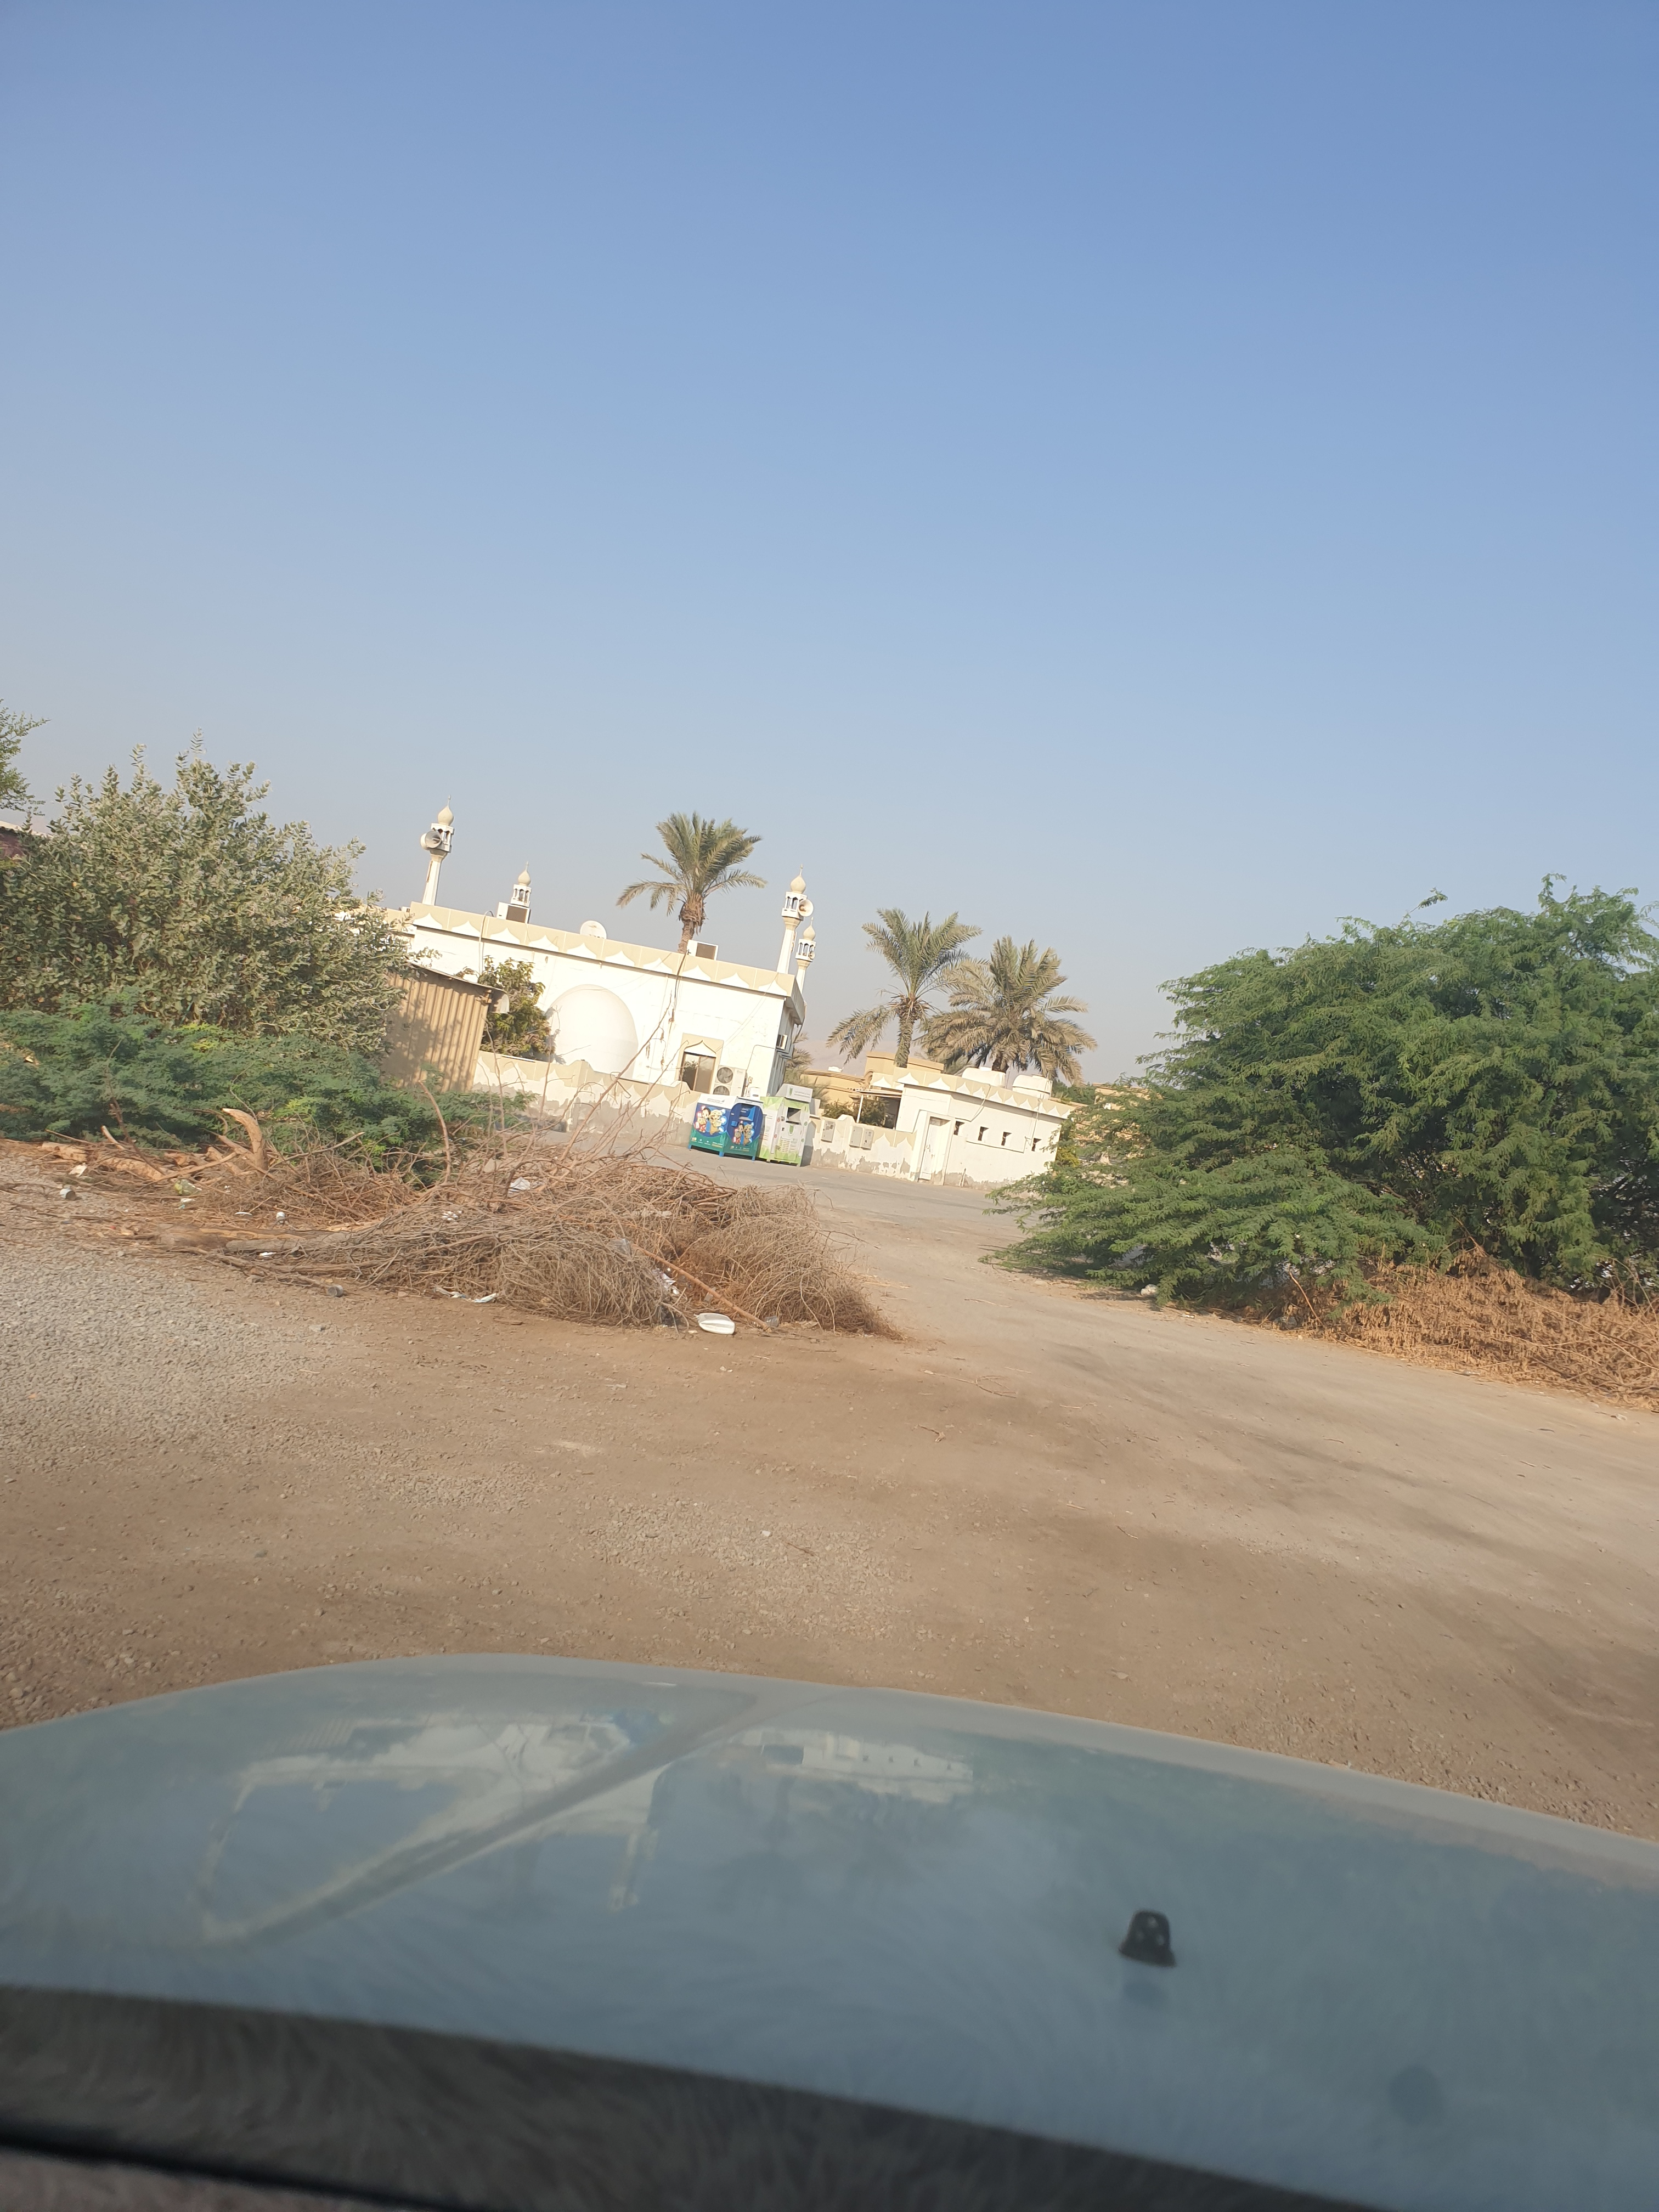fallen_trees: (179, 1191, 950, 1378), (406, 1244, 986, 1371), (622, 1153, 960, 1353), (98, 1186, 434, 1320), (258, 1226, 584, 1353), (798, 1211, 946, 1399)
